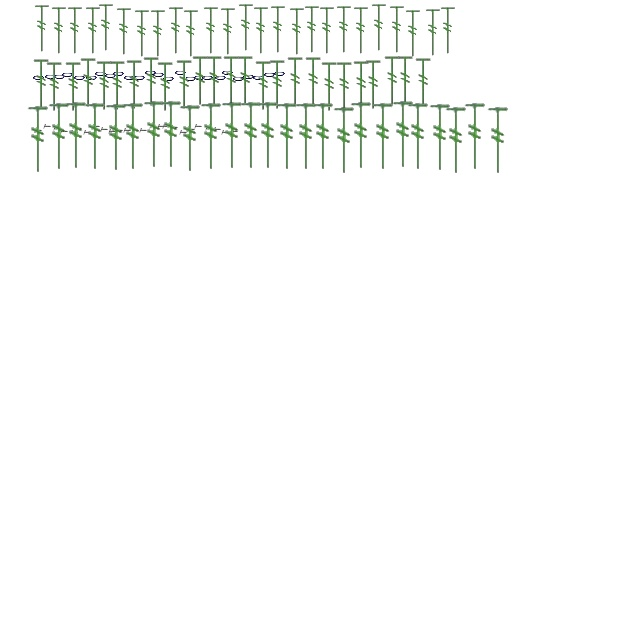chain: (44, 72, 58, 82), (144, 68, 158, 78), (152, 70, 166, 80), (162, 74, 176, 84), (174, 68, 188, 78), (184, 74, 198, 84), (232, 74, 246, 84), (242, 72, 256, 82), (54, 72, 66, 82), (62, 70, 74, 80), (222, 68, 234, 78), (264, 70, 276, 80), (32, 74, 46, 82), (94, 70, 108, 78), (104, 72, 118, 80), (112, 70, 126, 78), (214, 74, 228, 82), (252, 74, 266, 82), (74, 74, 86, 82), (86, 74, 98, 82), (124, 74, 136, 82), (134, 74, 146, 82), (194, 74, 206, 82), (202, 74, 214, 82), (274, 70, 286, 78)
enseble_chain: (34, 128, 42, 134), (43, 124, 51, 130), (53, 126, 61, 132), (70, 130, 78, 136), (74, 126, 82, 132), (83, 130, 91, 136), (92, 124, 100, 130), (115, 128, 123, 134), (123, 128, 131, 134), (131, 128, 139, 134), (139, 128, 147, 134), (149, 124, 157, 130), (157, 124, 165, 130), (162, 124, 170, 130), (179, 130, 187, 136), (194, 124, 202, 130), (205, 126, 213, 132), (221, 130, 229, 136), (60, 130, 68, 134), (100, 128, 108, 132), (108, 130, 116, 134), (170, 126, 178, 130), (187, 128, 195, 132), (213, 128, 221, 132), (230, 130, 238, 134)
fan: (142, 100, 166, 170), (178, 104, 202, 174), (294, 102, 318, 172), (332, 106, 356, 176), (406, 102, 430, 172), (444, 106, 468, 176), (486, 106, 510, 176), (26, 106, 50, 174), (64, 102, 88, 170), (104, 104, 128, 172), (220, 102, 244, 170), (256, 102, 280, 170), (428, 104, 452, 172), (48, 102, 70, 172), (84, 102, 106, 172), (122, 102, 144, 172), (160, 100, 182, 170), (200, 102, 222, 172), (276, 102, 298, 172), (312, 102, 334, 172), (372, 102, 394, 172), (392, 100, 414, 170), (464, 102, 486, 172), (240, 102, 262, 170), (350, 102, 372, 170), (32, 58, 52, 110), (108, 60, 128, 112), (142, 56, 162, 108), (254, 60, 274, 112), (286, 56, 306, 108), (304, 56, 324, 108), (352, 60, 372, 112), (64, 62, 84, 112), (156, 62, 176, 112), (222, 56, 242, 106), (236, 56, 256, 106), (268, 60, 288, 110), (320, 62, 340, 112), (364, 60, 384, 110), (396, 56, 416, 106), (414, 58, 434, 108), (97, 2, 115, 54), (115, 6, 133, 58), (133, 8, 151, 60), (149, 8, 167, 60), (182, 8, 200, 60), (219, 6, 237, 58), (237, 2, 255, 54), (269, 4, 287, 56), (288, 6, 306, 58), (303, 4, 321, 56), (335, 4, 353, 56), (370, 2, 388, 54), (388, 4, 406, 56), (404, 8, 422, 60), (96, 60, 114, 112), (33, 4, 51, 54), (50, 6, 68, 56), (66, 6, 84, 56), (84, 6, 102, 56), (167, 6, 185, 56), (202, 6, 220, 56), (252, 6, 270, 56), (318, 6, 336, 56), (352, 6, 370, 56), (424, 8, 442, 58), (439, 6, 457, 56), (46, 62, 64, 112), (80, 58, 98, 108), (126, 60, 144, 110), (176, 60, 194, 110), (192, 56, 210, 106), (206, 56, 224, 106), (336, 62, 354, 112), (384, 56, 402, 106)
